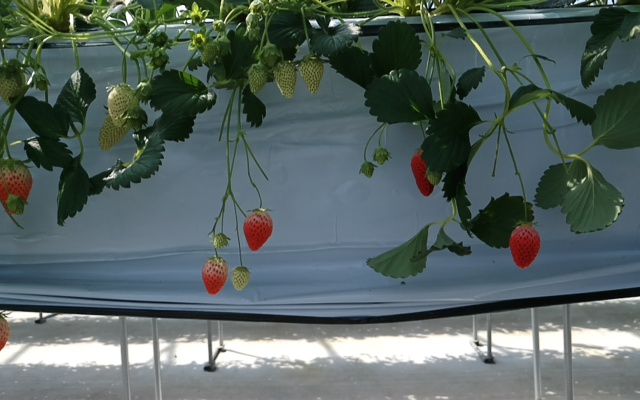GreenStrawberry: (106, 82, 141, 128), (1, 61, 33, 108), (98, 108, 130, 151), (297, 54, 326, 95), (273, 58, 298, 101), (247, 61, 269, 95), (231, 267, 249, 292), (5, 196, 28, 214), (427, 166, 441, 185)
MatureStrawberry: (1, 160, 34, 213), (508, 222, 541, 270), (241, 207, 275, 253), (411, 147, 435, 199), (200, 256, 229, 297)
